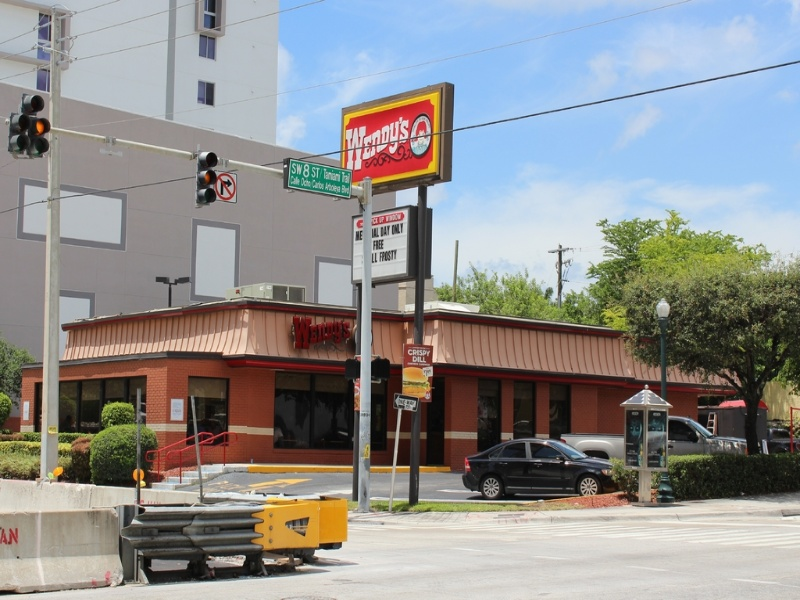no_right_turn: (213, 170, 238, 201)
